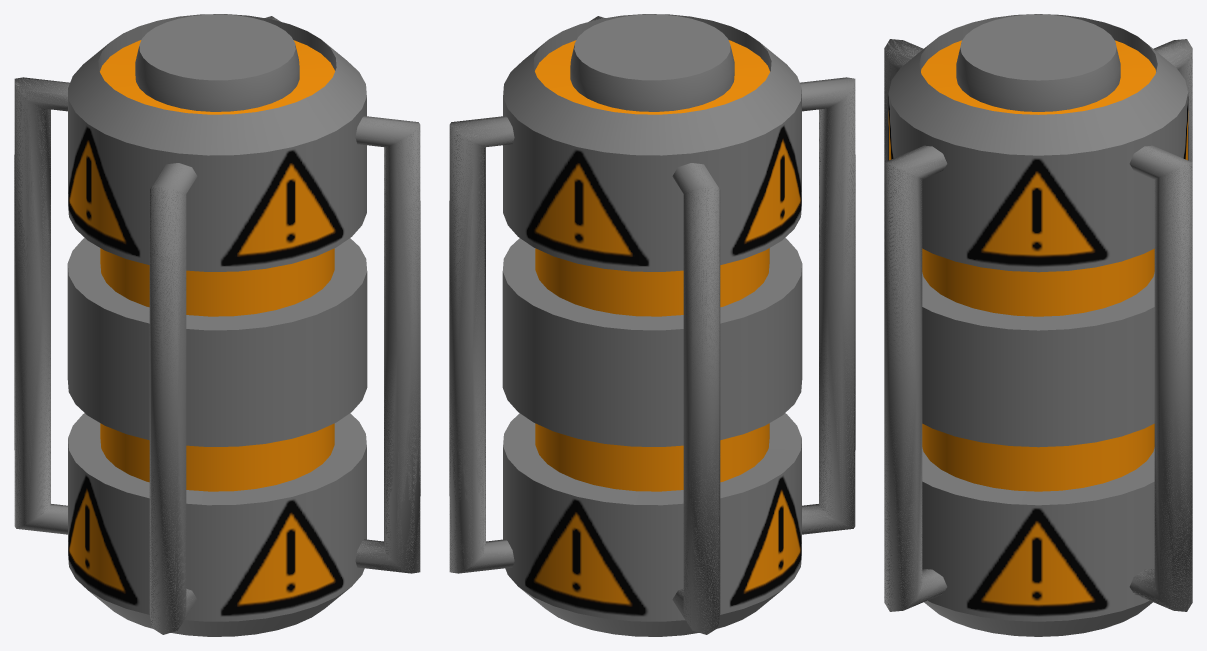
Rendered from Pickup.fbx.
3 renders of one model, left to right at view 1: azimuth 30°, elevation 25°; view 2: azimuth 150°, elevation 25°; view 3: azimuth 270°, elevation 25°, orthographic.
Parts seen in each view (by area): view 1: PickupMesh; view 2: PickupMesh; view 3: PickupMesh.
Boxes of the visible parts, x1=… form: PickupMesh: x1=14, y1=14, x2=420, y2=636; PickupMesh: x1=449, y1=14, x2=855, y2=636; PickupMesh: x1=884, y1=14, x2=1192, y2=636.
Size of the model in its own units: 206 by 410 by 206.
1 material, 1 textured.
